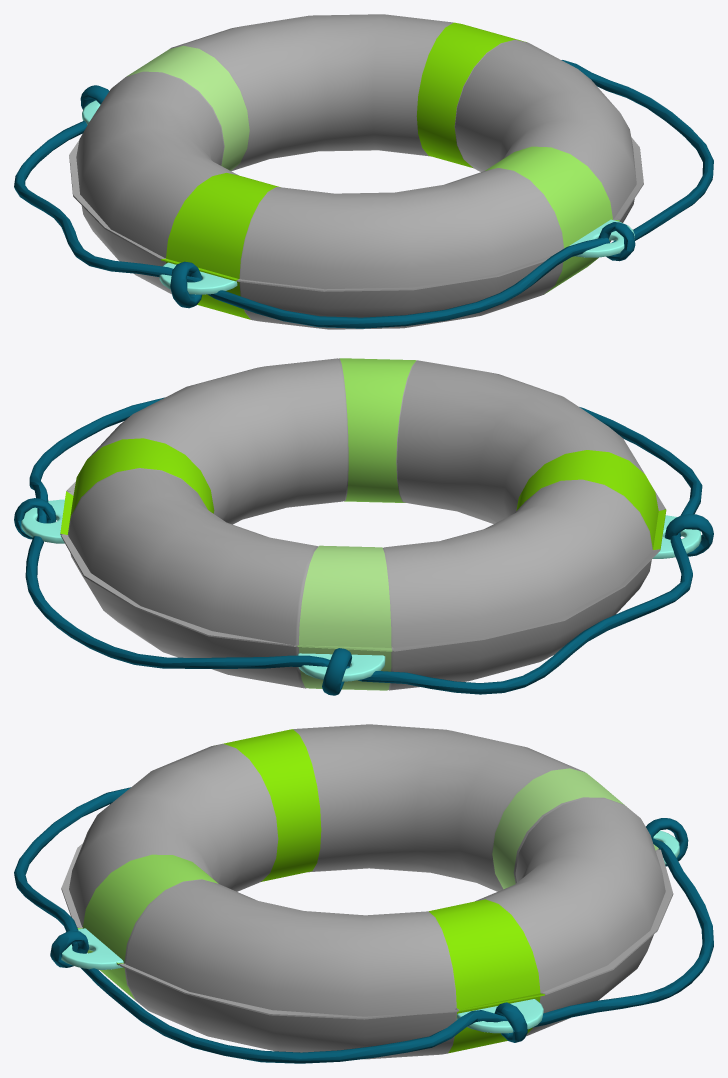
Rendered from BuoyPlatform.fbx.
3 renders of one model, top to bottom at view 1: azimuth 30°, elevation 25°; view 2: azimuth 150°, elevation 25°; view 3: azimuth 270°, elevation 25°, orthographic. The views are drawn at different scales.
Parts seen in each view (by area): view 1: Buoy, polySurface3001, polySurface3003, polySurface3008, polySurface3007, polySurface3002; view 2: Buoy, polySurface3001, polySurface3009, polySurface3006, polySurface3003, polySurface3004, polySurface3008, polySurface3005; view 3: Buoy, polySurface3001, polySurface3007, polySurface3006, polySurface3002, polySurface3005, polySurface3004.
Part boxes in pixels (<box>): Buoy: <box>69,14,643,329</box>; polySurface3001: <box>14,60,713,328</box>; polySurface3003: <box>170,261,202,308</box>; polySurface3008: <box>159,262,237,294</box>; polySurface3007: <box>569,219,634,257</box>; polySurface3002: <box>598,222,635,261</box>; Buoy: <box>60,358,666,690</box>; polySurface3001: <box>25,397,702,694</box>; polySurface3009: <box>297,653,385,681</box>; polySurface3006: <box>21,499,64,543</box>; polySurface3003: <box>665,514,713,556</box>; polySurface3004: <box>322,648,351,695</box>; polySurface3008: <box>652,515,701,558</box>; polySurface3005: <box>14,498,56,539</box>; Buoy: <box>61,724,673,1059</box>; polySurface3001: <box>14,787,713,1063</box>; polySurface3007: <box>61,928,123,969</box>; polySurface3006: <box>456,999,543,1033</box>; polySurface3002: <box>50,930,89,967</box>; polySurface3005: <box>494,1002,527,1042</box>; polySurface3004: <box>646,818,688,866</box>.
Size of the model in its own units: 634 by 127 by 611.
